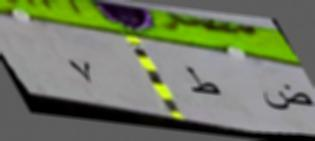7: (68, 54, 98, 86)
Taa: (182, 62, 222, 101)
daad: (261, 80, 313, 116)
